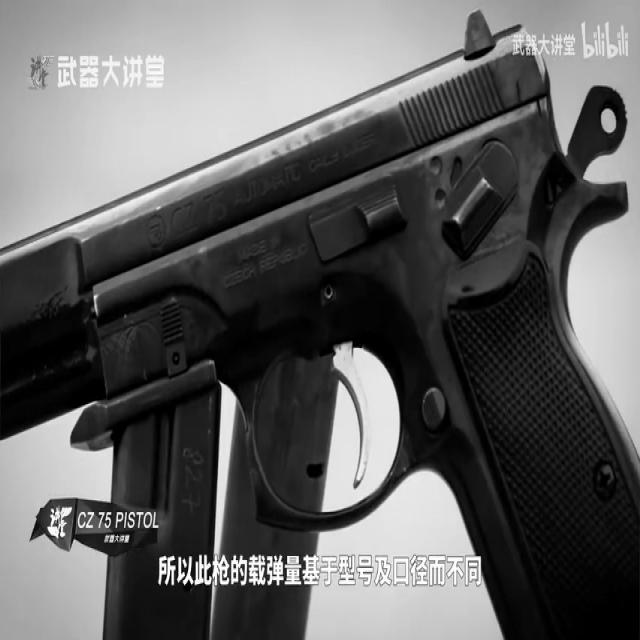Hand-Gun: (3, 20, 610, 640)
